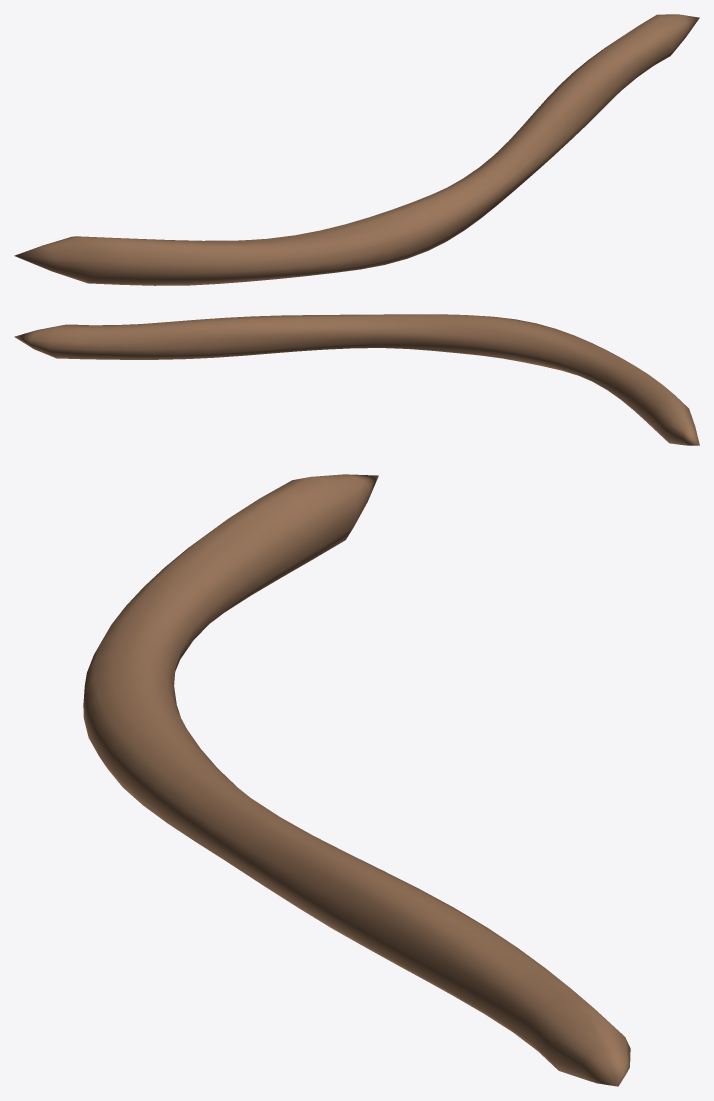
File: clay_coil.glb
The picture shows the model from 3 angles, top to bottom: view 1: azimuth 30°, elevation 25°; view 2: azimuth 150°, elevation 25°; view 3: azimuth 270°, elevation 25°; orthographic projection. The views are drawn at different scales.
Parts seen in each view (by area): view 1: clay_coil; view 2: clay_coil; view 3: clay_coil.
Boxes of the visible parts, left/top/right/bottom form: clay_coil: left=14, top=14, right=699, bottom=285; clay_coil: left=14, top=314, right=699, bottom=445; clay_coil: left=83, top=474, right=630, bottom=1086.
Bounding box in the file's own units: 0.224 × 0.0119 × 0.0848.
